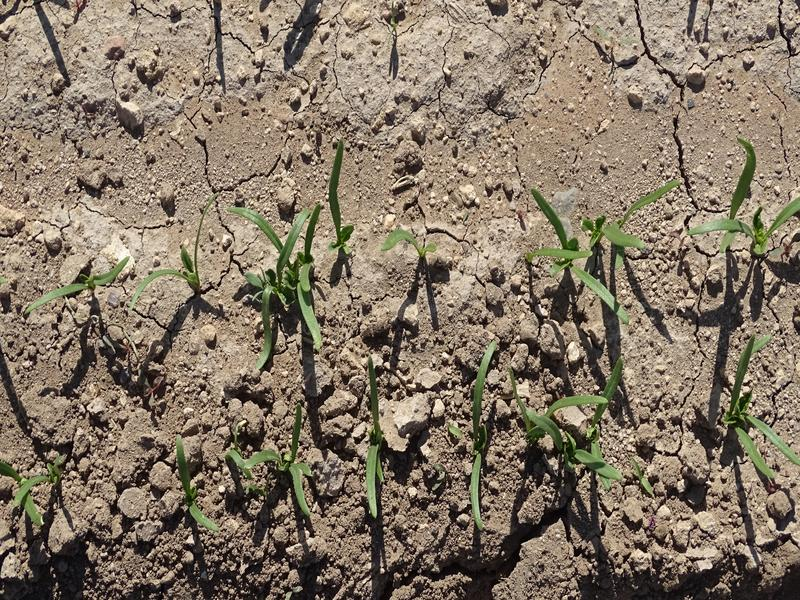Espinaca: (30, 196, 223, 325), (533, 178, 674, 301), (235, 195, 335, 351), (512, 382, 629, 484), (698, 145, 796, 264), (729, 339, 798, 479), (231, 407, 324, 509), (460, 346, 487, 523), (166, 435, 205, 534), (4, 465, 59, 522), (390, 230, 443, 269)
